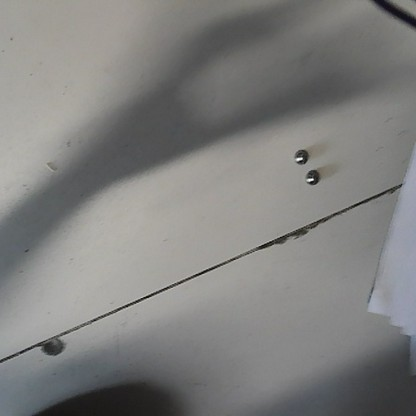ironball: (291, 146, 311, 165), (302, 167, 320, 186)
